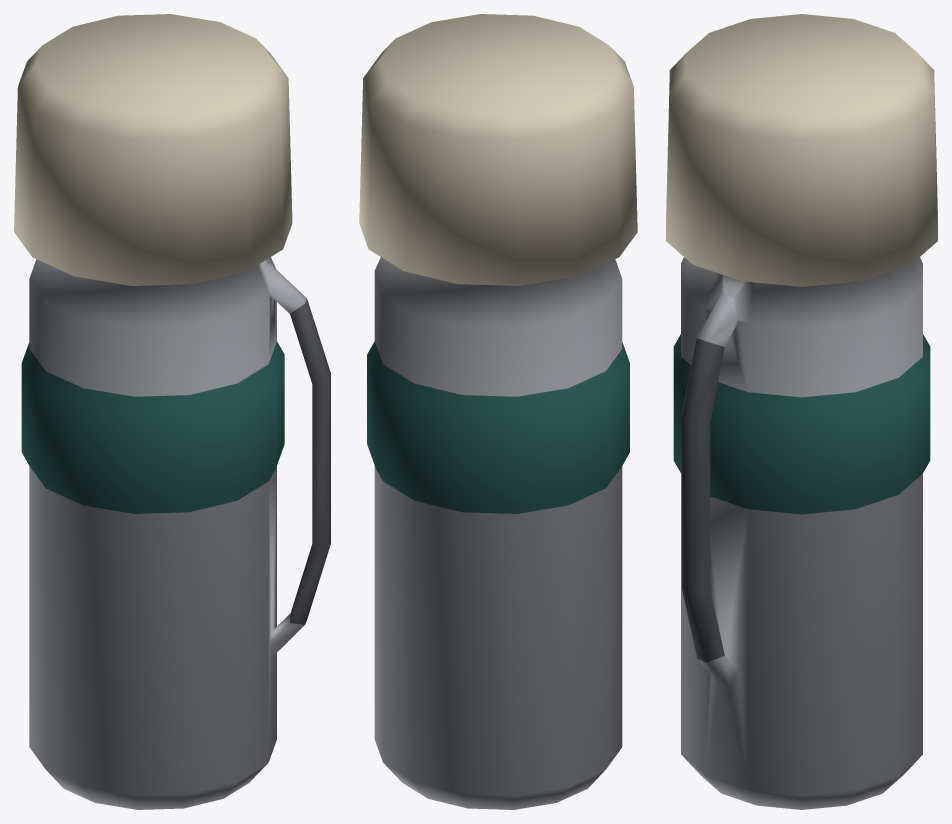
Rendered from thermos.glb.
3 renders of one model, left to right at view 1: azimuth 30°, elevation 25°; view 2: azimuth 150°, elevation 25°; view 3: azimuth 270°, elevation 25°, orthographic.
Parts seen in each view (by area): view 1: thermos; view 2: thermos; view 3: thermos.
Boxes of the visible parts, x1,y1,x2,y2 form: thermos: (14,14,330,809); thermos: (359,14,637,809); thermos: (666,14,937,809).
Size of the model in its own units: 0.1087 by 0.3 by 0.1053.
